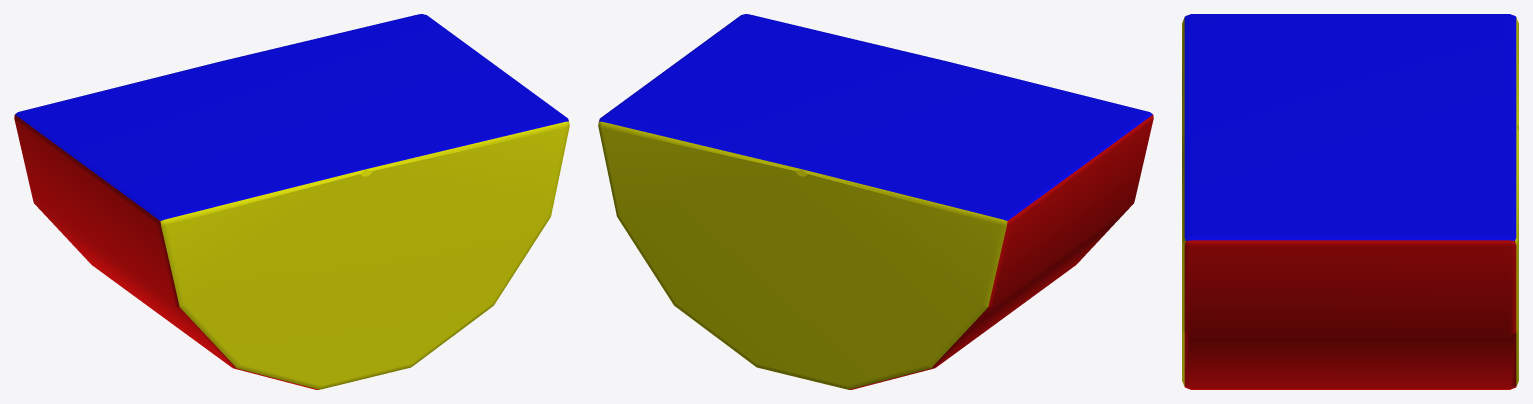
The model's file is block.fbx.
3 renders of one model, left to right at view 1: azimuth 30°, elevation 25°; view 2: azimuth 150°, elevation 25°; view 3: azimuth 270°, elevation 25°, orthographic. The views are drawn at different scales.
Parts seen in each view (by area): view 1: pCylinder15; view 2: pCylinder15; view 3: pCylinder15.
Part boxes in pixels (left/top/right/bottom): pCylinder15: left=14, top=14, right=569, bottom=389; pCylinder15: left=598, top=14, right=1153, bottom=389; pCylinder15: left=1182, top=14, right=1518, bottom=389.
Bounding box in the file's own units: 14.29 × 7.02 × 8.94.
